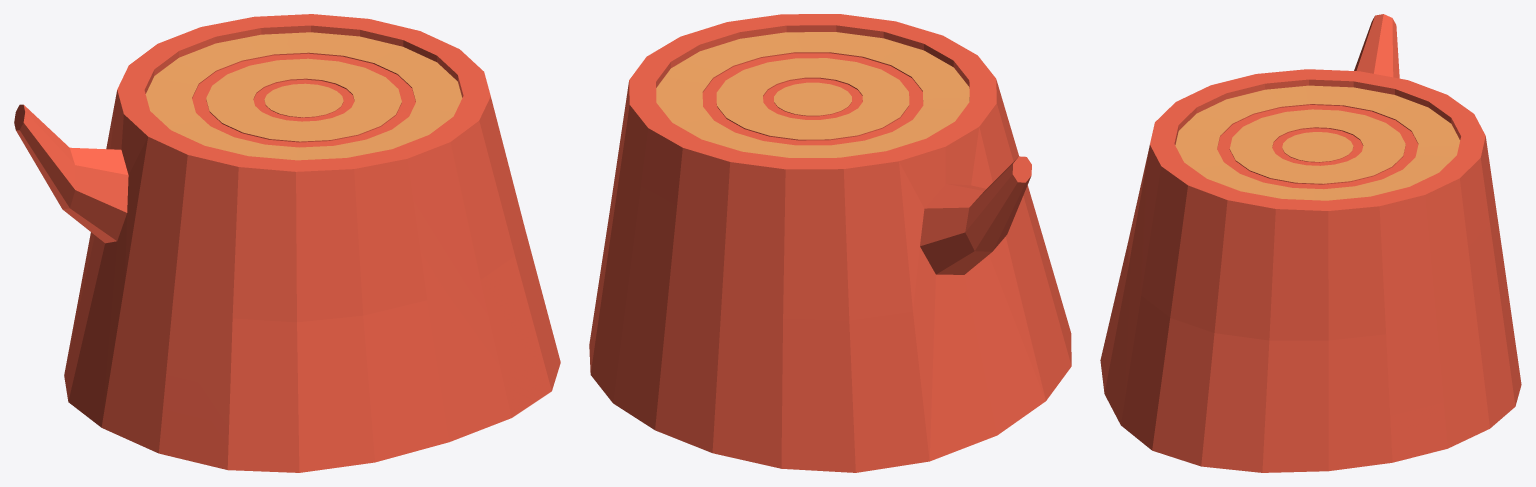
Rendered from stamp.glb.
3 renders of one model, left to right at view 1: azimuth 30°, elevation 25°; view 2: azimuth 150°, elevation 25°; view 3: azimuth 270°, elevation 25°, orthographic. The views are drawn at different scales.
Parts seen in each view (by area): view 1: Circle.002; view 2: Circle.002; view 3: Circle.002.
Boxes of the visible parts, left/top/right/bottom form: Circle.002: left=14, top=14, right=560, bottom=472; Circle.002: left=589, top=14, right=1071, bottom=472; Circle.002: left=1100, top=14, right=1521, bottom=472.
Bounding box in the file's own units: 2.43 × 1.56 × 2.15.
